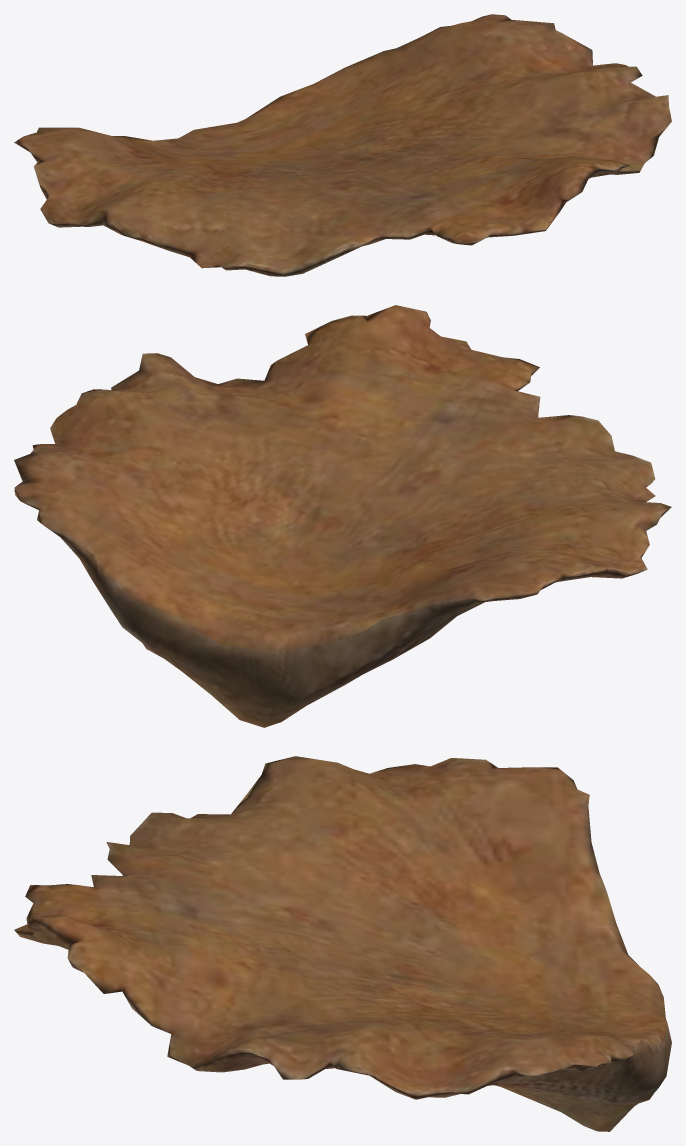
Rendered from Plant - Alien Mushroom Big1-CquIRJkL.glb.
The picture shows the model from 3 angles, top to bottom: view 1: azimuth 30°, elevation 25°; view 2: azimuth 150°, elevation 25°; view 3: azimuth 270°, elevation 25°; orthographic projection. The views are drawn at different scales.
Parts seen in each view (by area): view 1: Mushroom_Big1(Clone); view 2: Mushroom_Big1(Clone); view 3: Mushroom_Big1(Clone).
Boxes of the visible parts, x1,y1,x2,y2 form: Mushroom_Big1(Clone): (14,14,671,276); Mushroom_Big1(Clone): (14,305,671,727); Mushroom_Big1(Clone): (14,756,671,1131).
Bounding box in the file's own units: 1.57 × 0.5763 × 1.3.
Materials: 1 (1 with a texture image).
